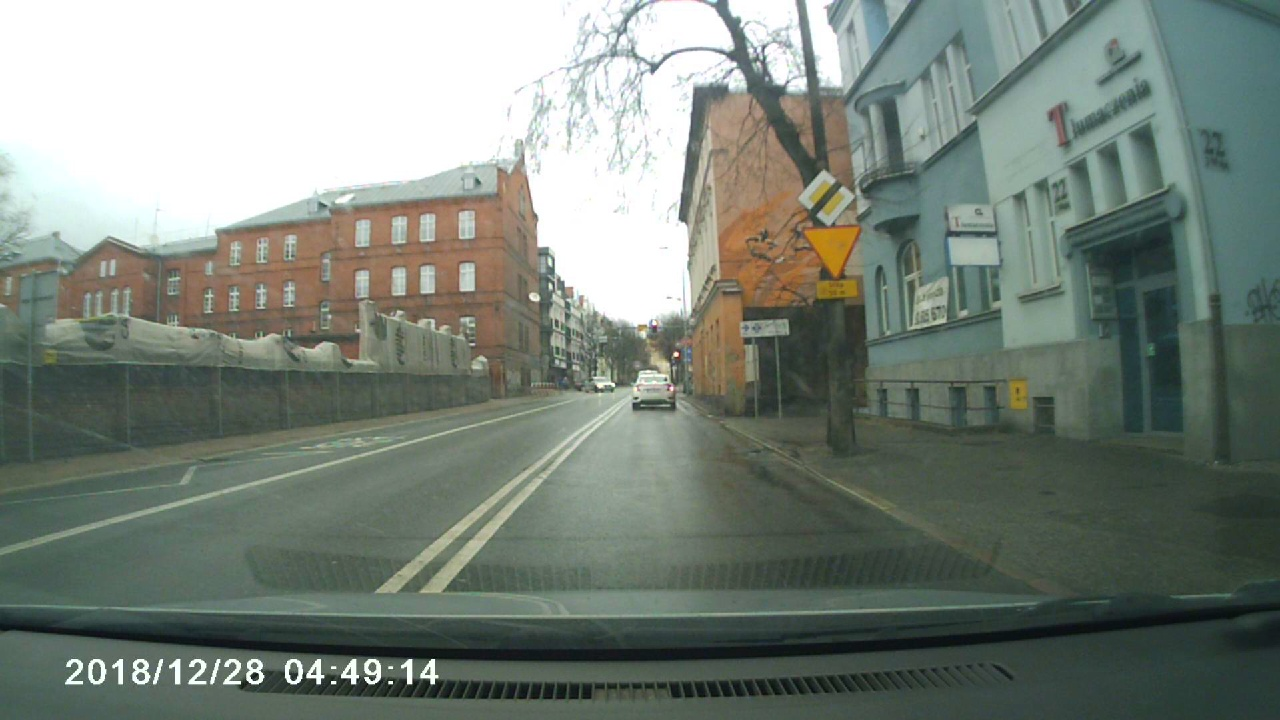A7: (801, 224, 865, 279)
D2: (792, 167, 862, 224)
